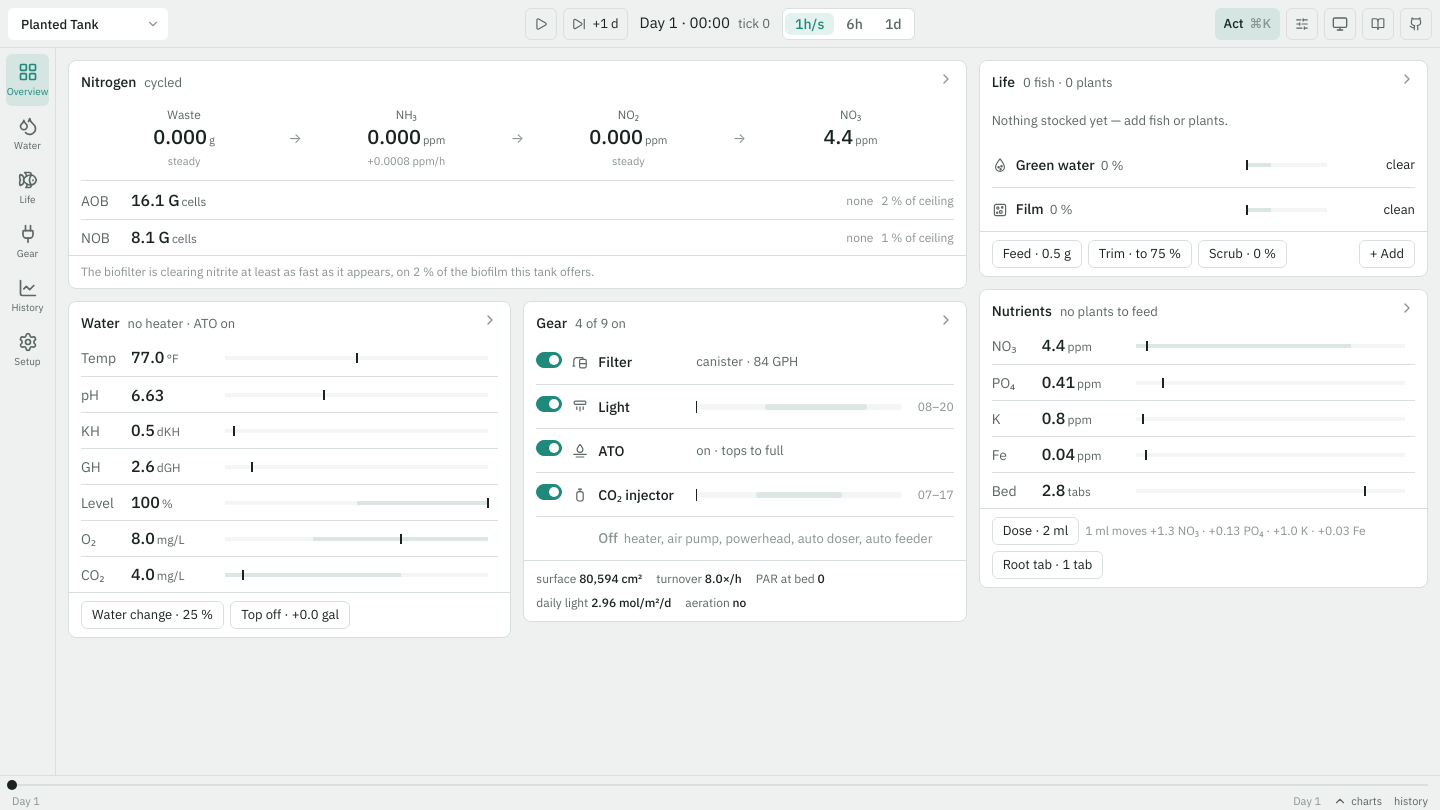
a verb sheet › names the promoted verb on the top bar once one has been committed
expect the button "Act ⌘K" is shown: met, box [1215,8,1280,40]
Press k
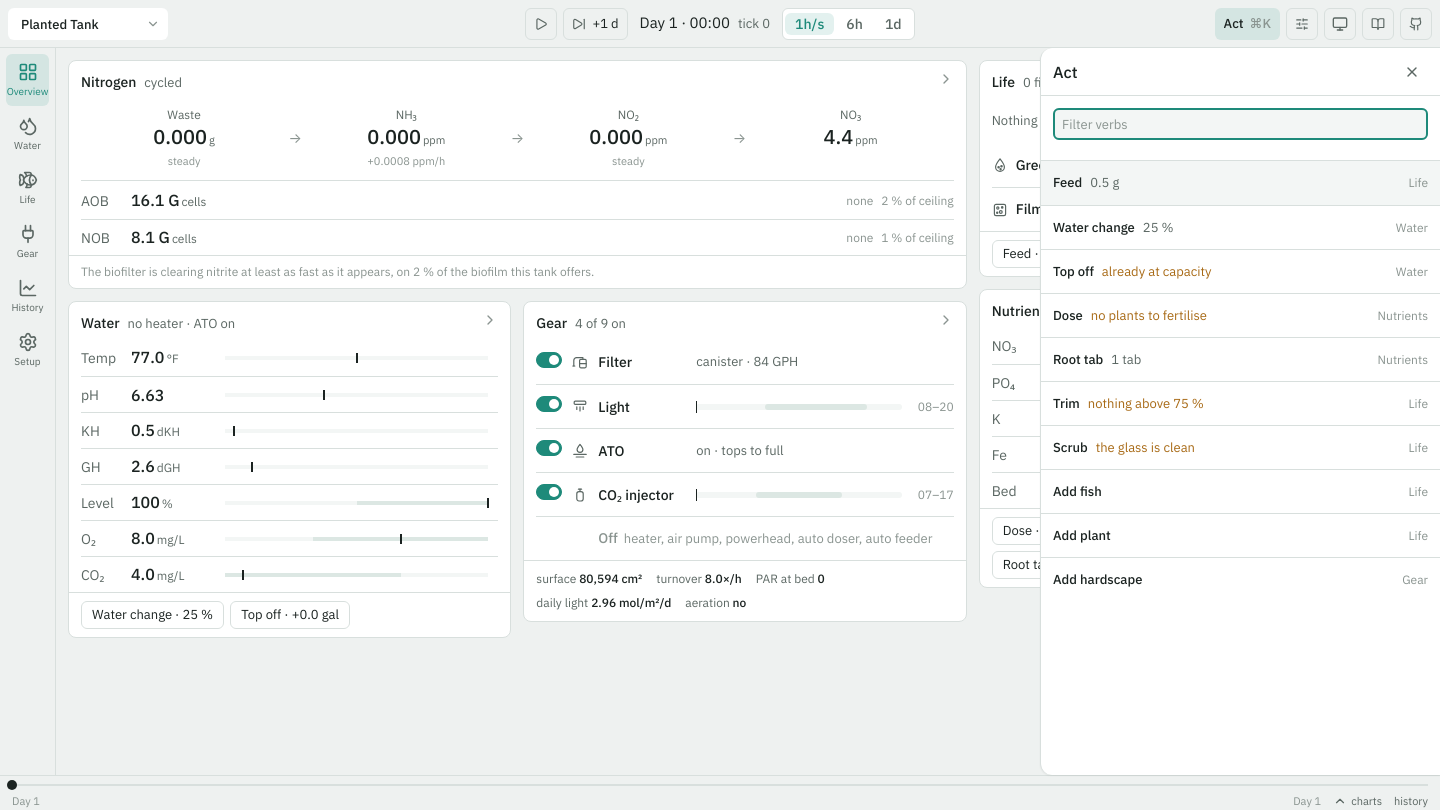
Click the option "Feed 0.5 g Life" at (1068, 182), box [1041,161,1439,205]
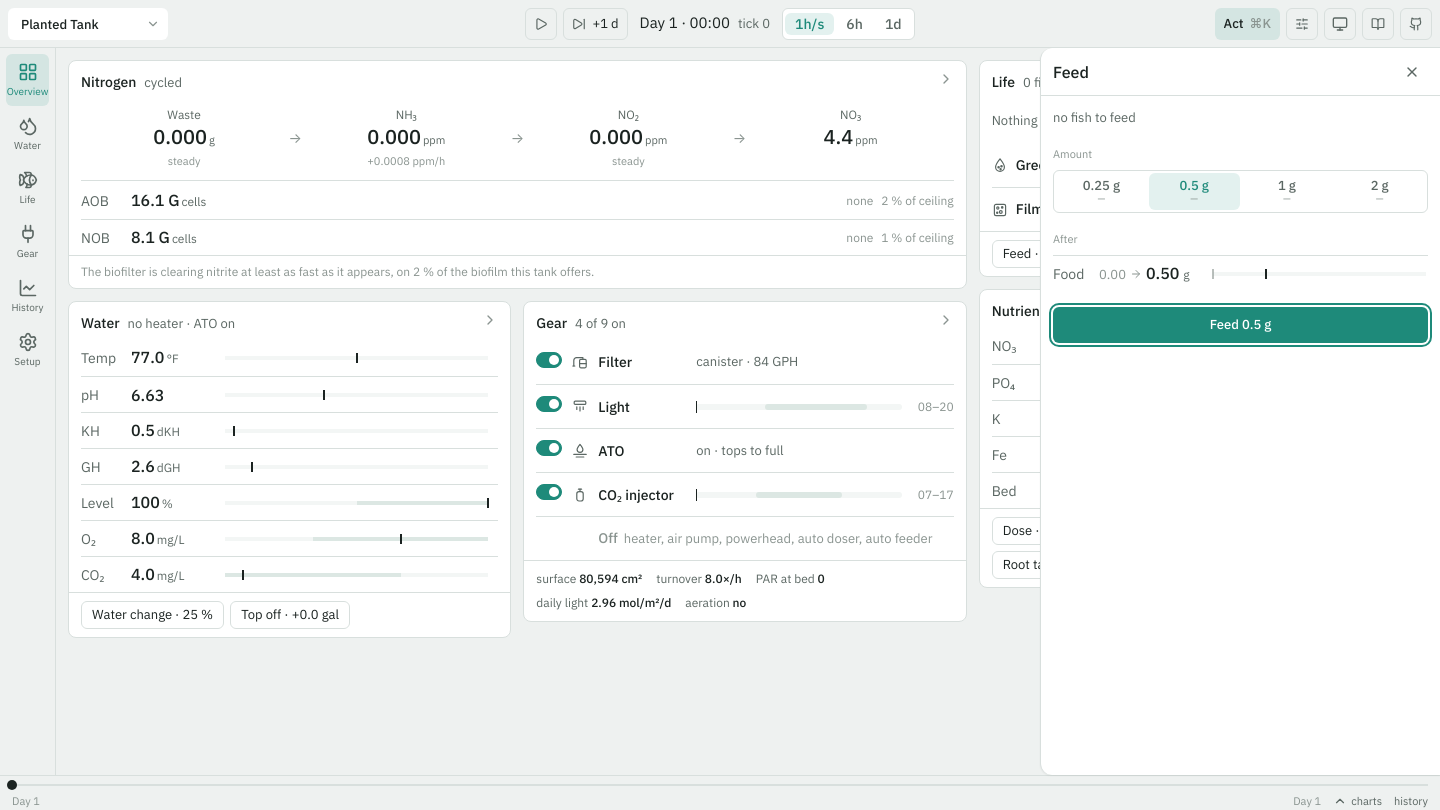
Click the button "Feed 0.5 g" at (1240, 325), box [1053,307,1428,343]
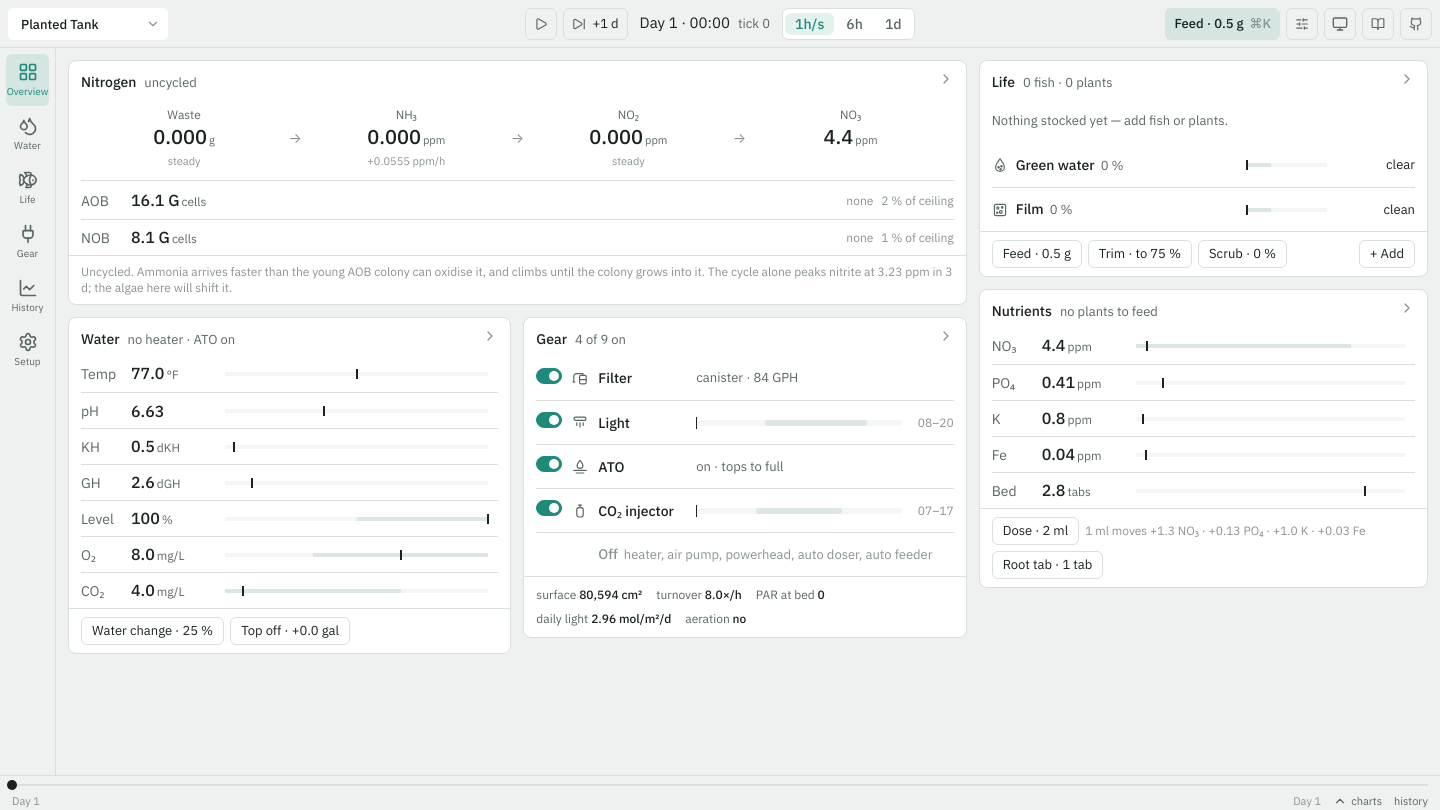
expect the button with aria-label "Act — Feed · 0.5 g" shows "Feed · 0.5 g": met, box [1165,8,1280,40]
